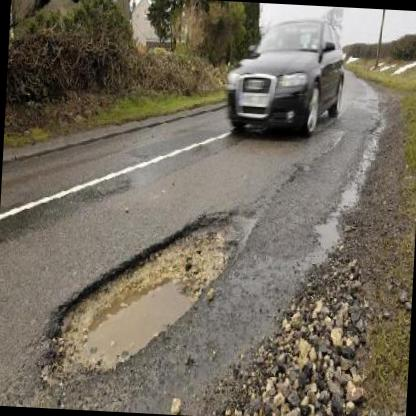pothole: (44, 199, 258, 378)
